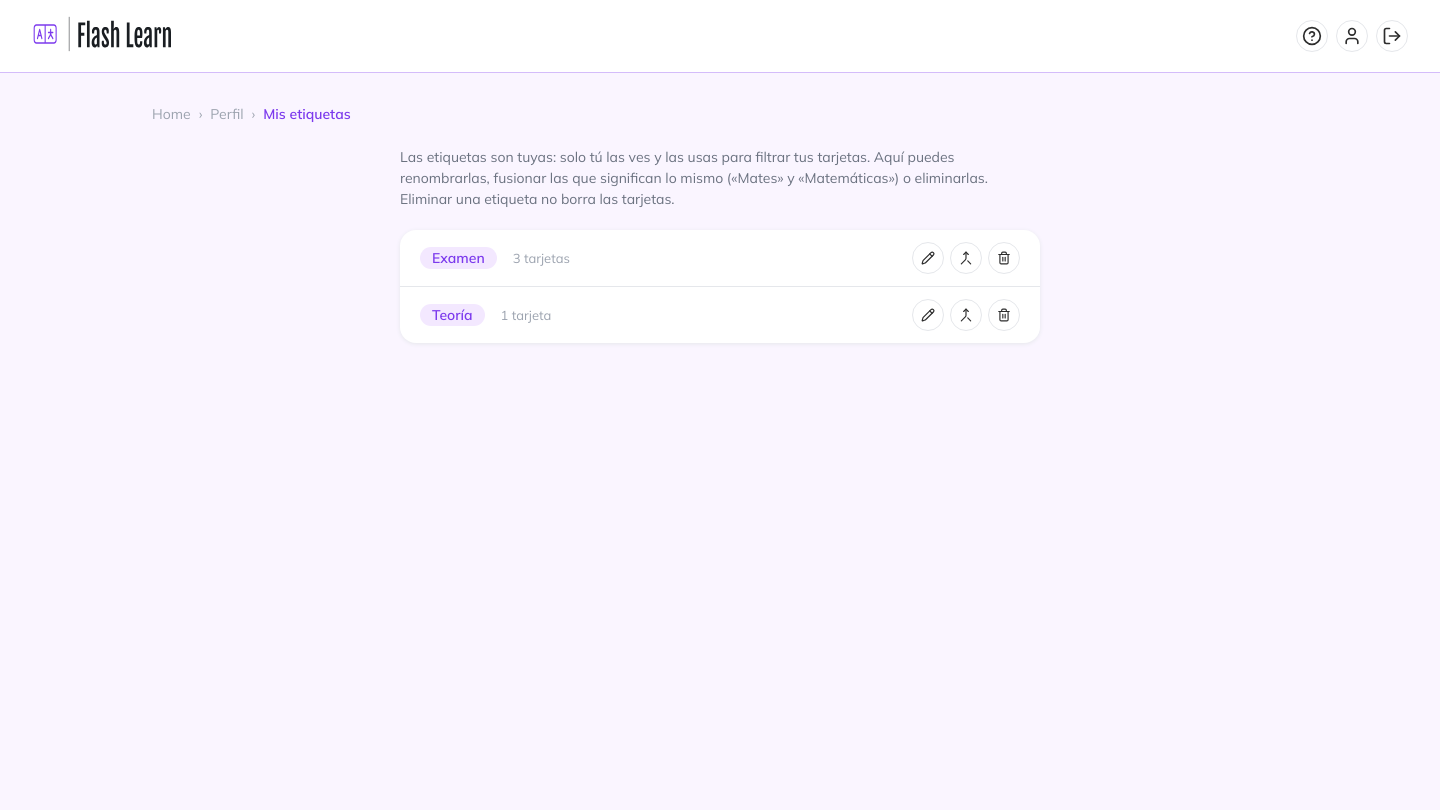
Test case: MyTags › abre el diálogo de fusión con las demás etiquetas
Expected: the text "Examen" is shown, [420,247,497,269]
Click the button named "Fusionar Examen en otra" at (966, 258), box [950,242,982,274]
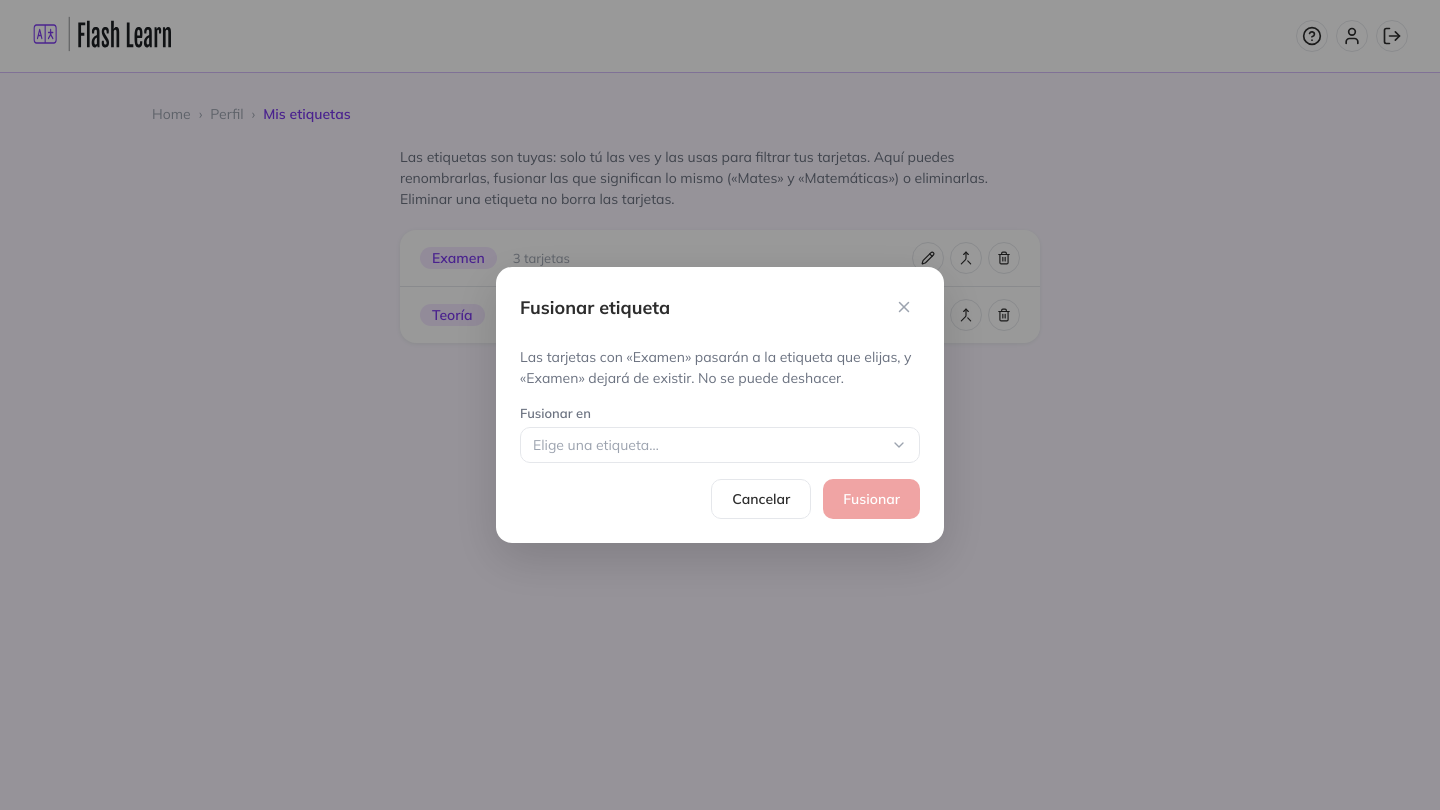
Click the dropdown named "Fusionar en" at (596, 445), box [520,427,920,463]
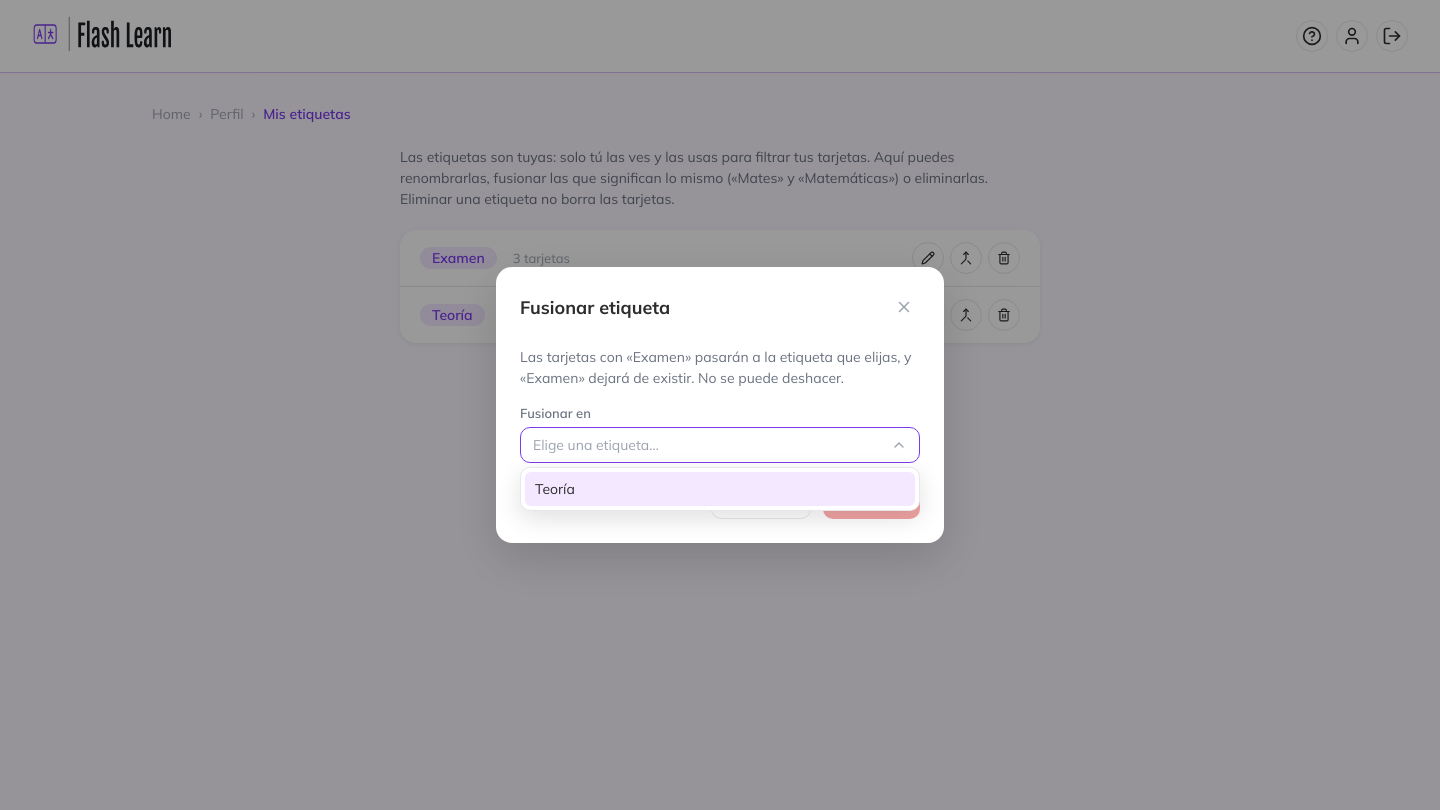
Result: the option "Teoría" is shown at [525,472,915,506]
